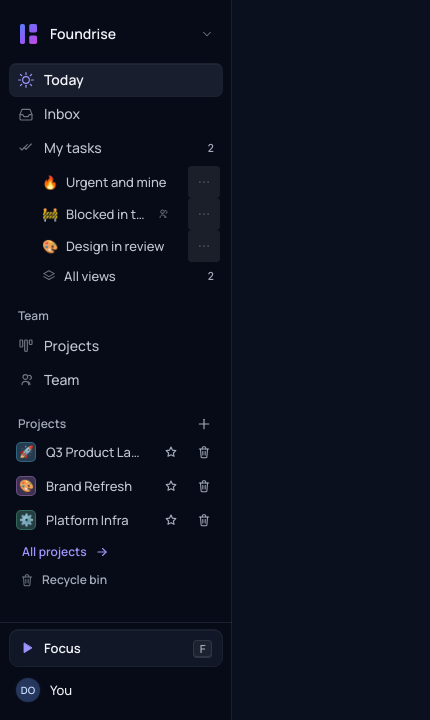
Test: Sidebar › Views › renames in place: Enter saves, Escape keeps the old name, focus comes back to the row
Click the button named "Options for view Urgent and mine" at (204, 182), box [188,166,220,198]
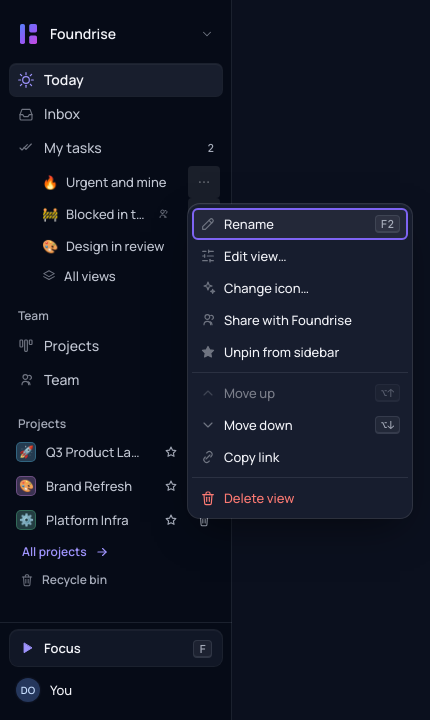
Click the menu item "Rename F2" at (300, 224), box [192,208,408,240]
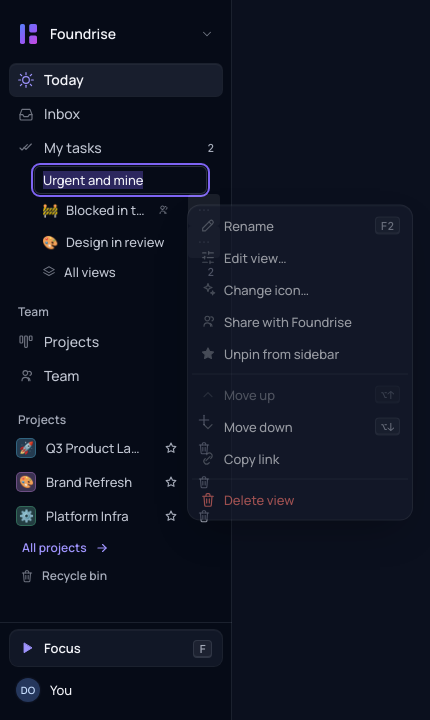
Replace the text in the field named "Rename view Urgent and mine" with "On fire" at (120, 180), box [34,166,207,194]
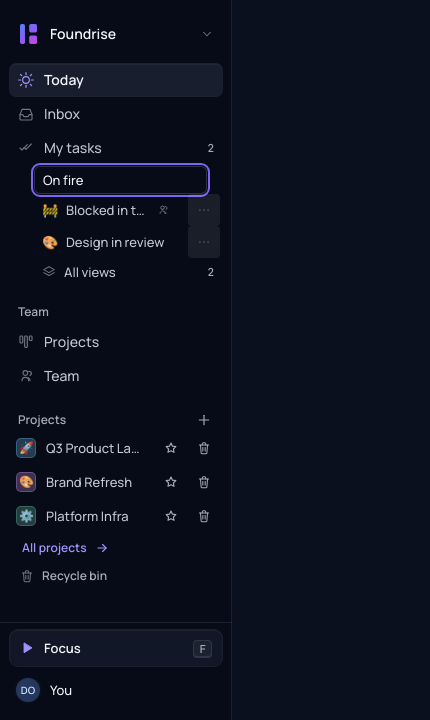
Press Enter in the field named "Rename view Urgent and mine", box [34,166,207,194]
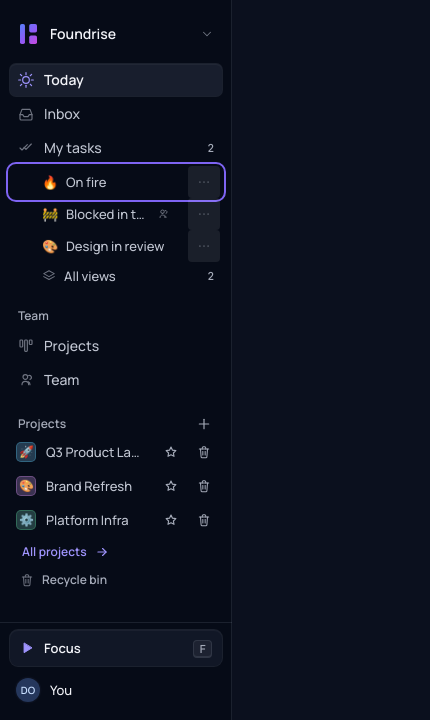
Result: the text "On fire" is shown at [66,173,106,191]
Press F2 in the button "🔥 On fire", box [10,166,222,198]
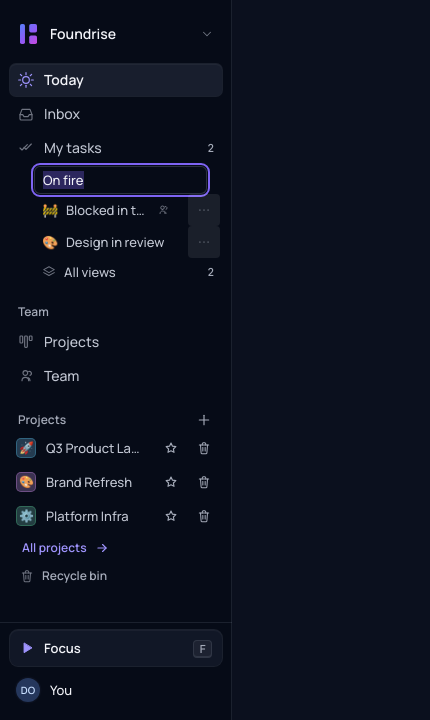
Replace the text in the field named "Rename view On fire" with "Nope" at (120, 180), box [34,166,207,194]
Press Escape in the field named "Rename view On fire", box [34,166,207,194]
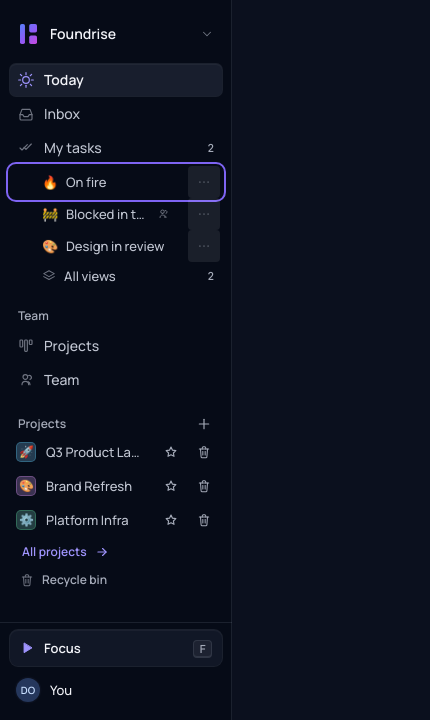
Result: the text "On fire" is shown at [66,173,106,191]
